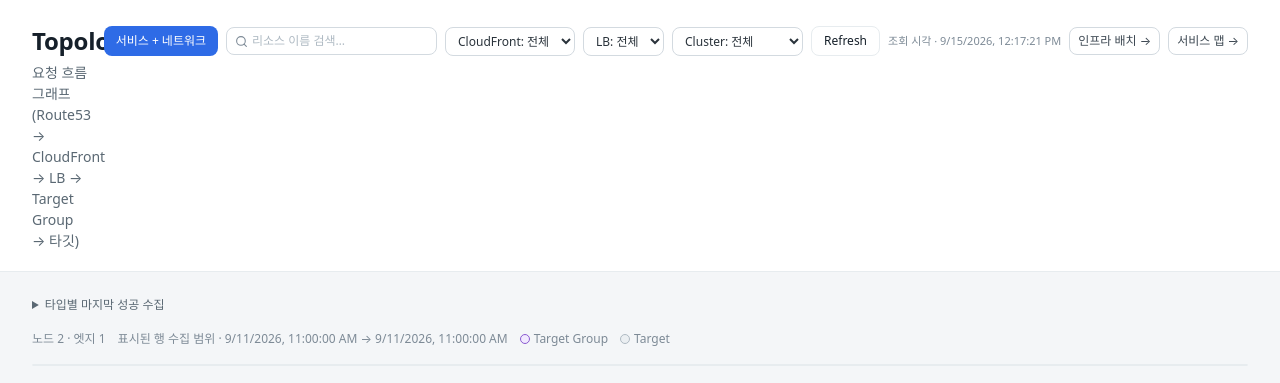
Test case: topology page URL and restored scope › passes existing subnet inventory into ECS resolution without a second subnet request
Expected: the button "서비스 + 네트워크" is shown, [104,26,218,56]
In the field with placeholder "리소스 이름 검색…": (340, 41) [252,32,428,50], type "orders-api"
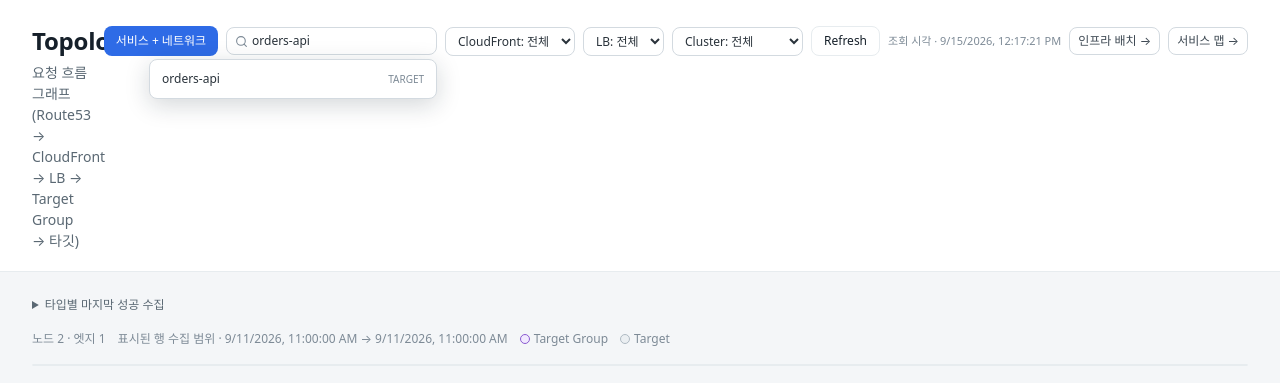
Result: the button "orders-api target" is shown at [150,64,436,94]
